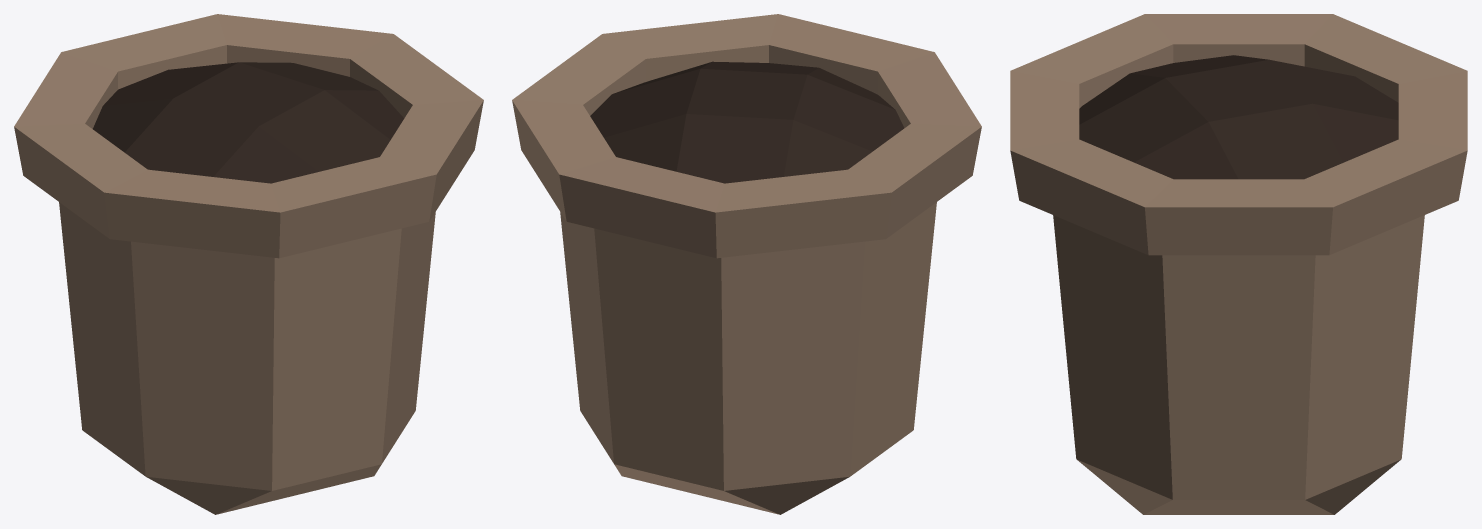
File: w_r_plant_pot.glb
The picture shows the model from 3 angles, left to right: view 1: azimuth 30°, elevation 25°; view 2: azimuth 150°, elevation 25°; view 3: azimuth 270°, elevation 25°; orthographic projection. The views are drawn at different scales.
Parts seen in each view (by area): view 1: pot, dirt; view 2: pot, dirt; view 3: pot, dirt.
Part boxes in pixels (bbox=[...]): pot: bbox=[14, 14, 483, 514]; dirt: bbox=[93, 62, 404, 183]; pot: bbox=[512, 14, 981, 514]; dirt: bbox=[590, 61, 904, 183]; pot: bbox=[1010, 14, 1467, 514]; dirt: bbox=[1079, 55, 1398, 179].
Size of the model in its own units: 1.11 by 1.03 by 1.11.
